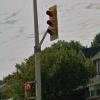Traffic light: (40, 2, 72, 49)
